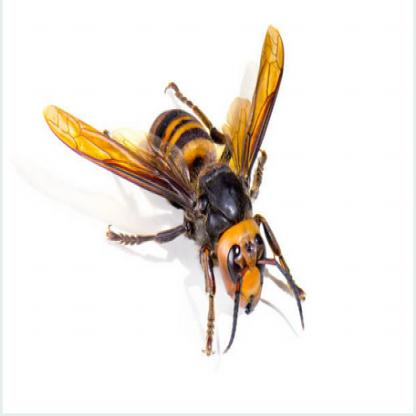asian: (44, 38, 316, 366)
